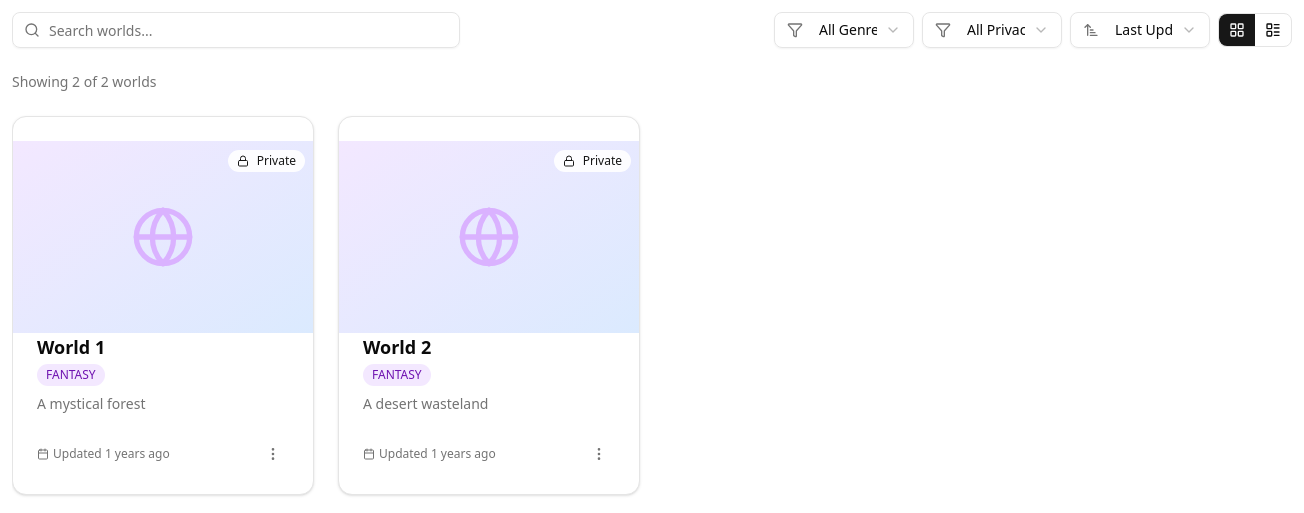
WorldsList › Search › filters worlds by setting
Step 1. Type "forest" into the field with placeholder "Search worlds..." → (236, 30), box top-left (12, 12), bottom-right (460, 48)
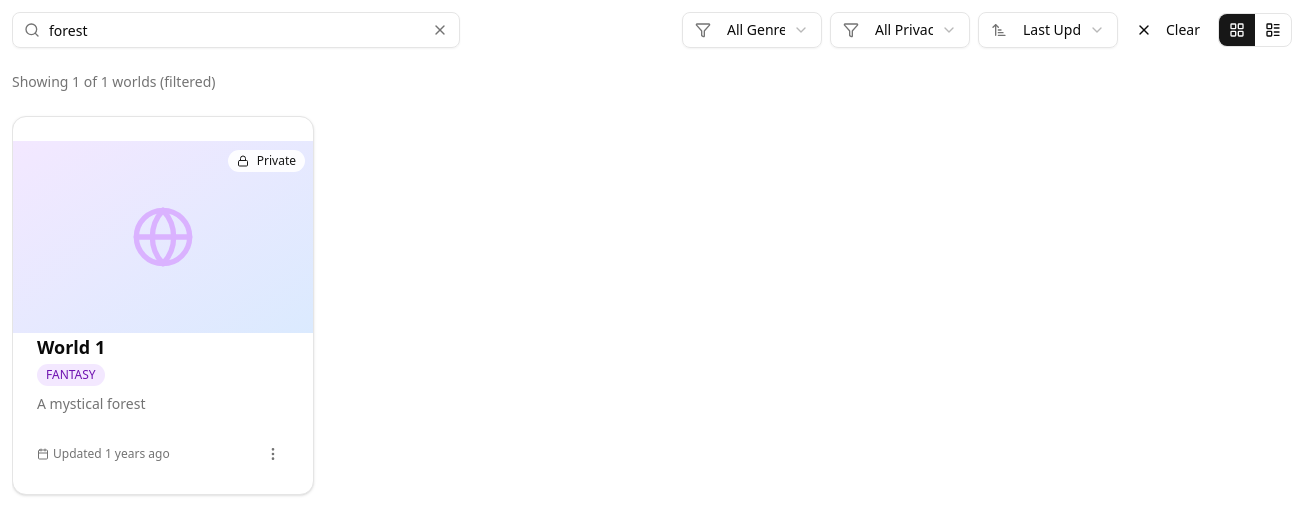
expect the heading "World 1" is shown: met, box top-left (37, 335), bottom-right (105, 359)
expect the link "World 2" is gone: met
